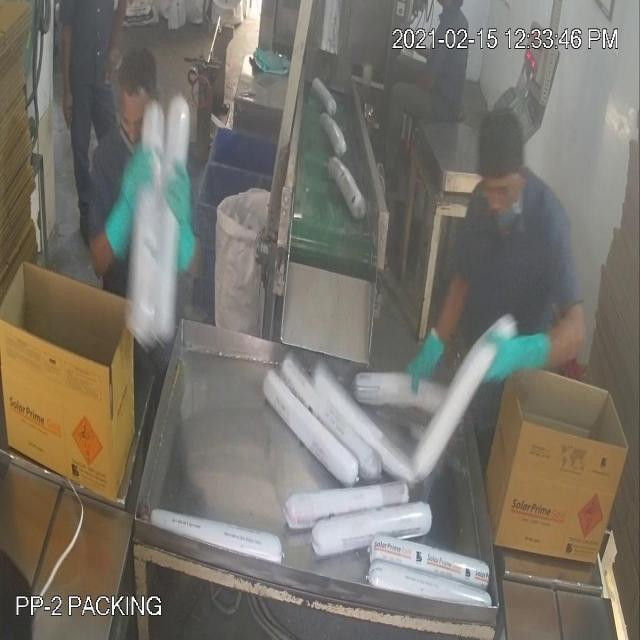Gloves: (22, 46, 521, 360)
